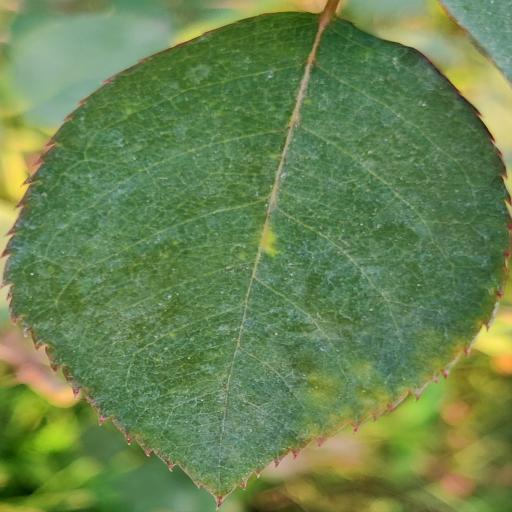healthy_leaf: (5, 13, 509, 496)
